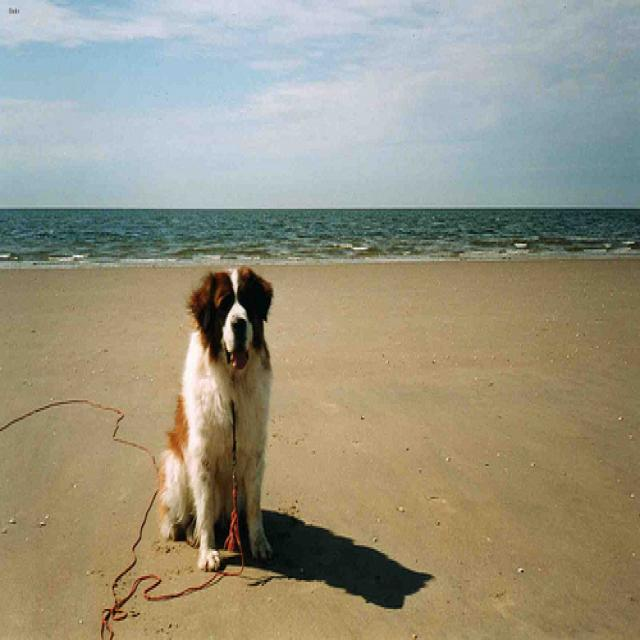dog-saint_bernard: (151, 255, 276, 578)
